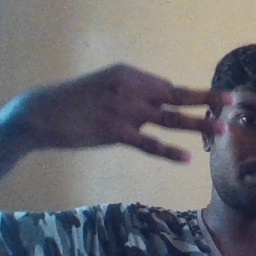K: (35, 61, 238, 164)
